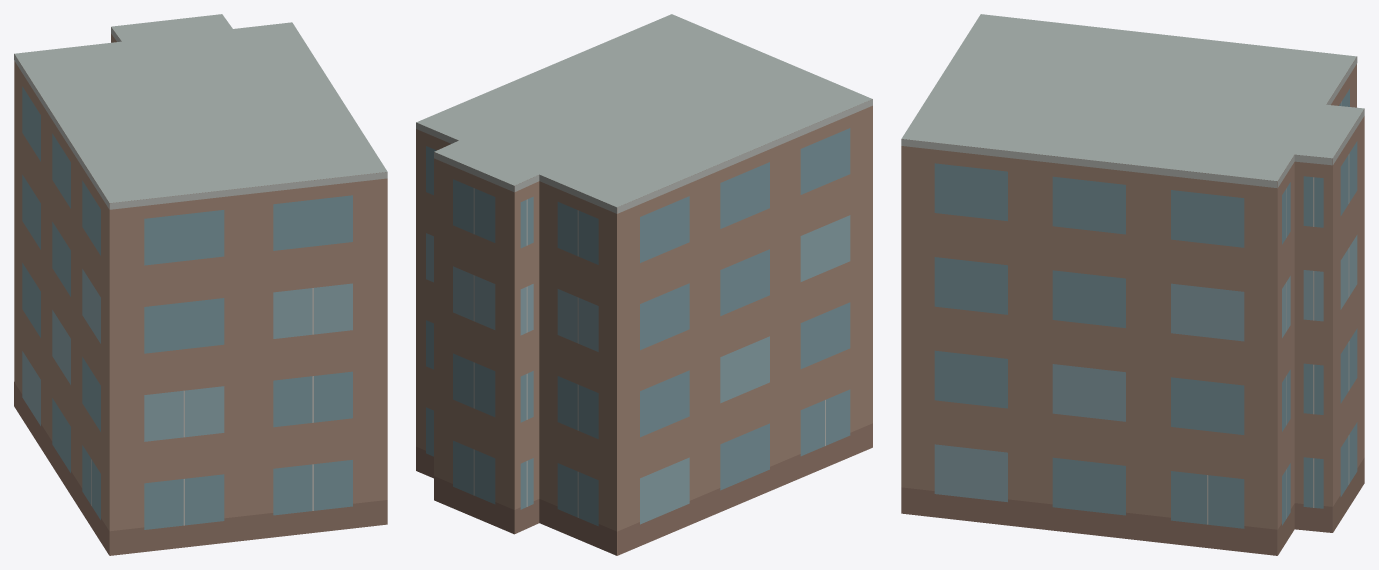
Rendered from survey-upis-32719479.glb.
3 renders of one model, left to right at view 1: azimuth 30°, elevation 25°; view 2: azimuth 150°, elevation 25°; view 3: azimuth 270°, elevation 25°, orthographic. The views are drawn at different scales.
Parts seen in each view (by area): view 1: survey-upis-32719479.tmp; view 2: survey-upis-32719479.tmp; view 3: survey-upis-32719479.tmp.
Boxes of the visible parts, x1,y1,x2,y2 form: survey-upis-32719479.tmp: (14, 14, 387, 555); survey-upis-32719479.tmp: (416, 14, 872, 555); survey-upis-32719479.tmp: (901, 14, 1364, 555).
Bounding box in the file's own units: 12.45 × 13 × 14.58.
